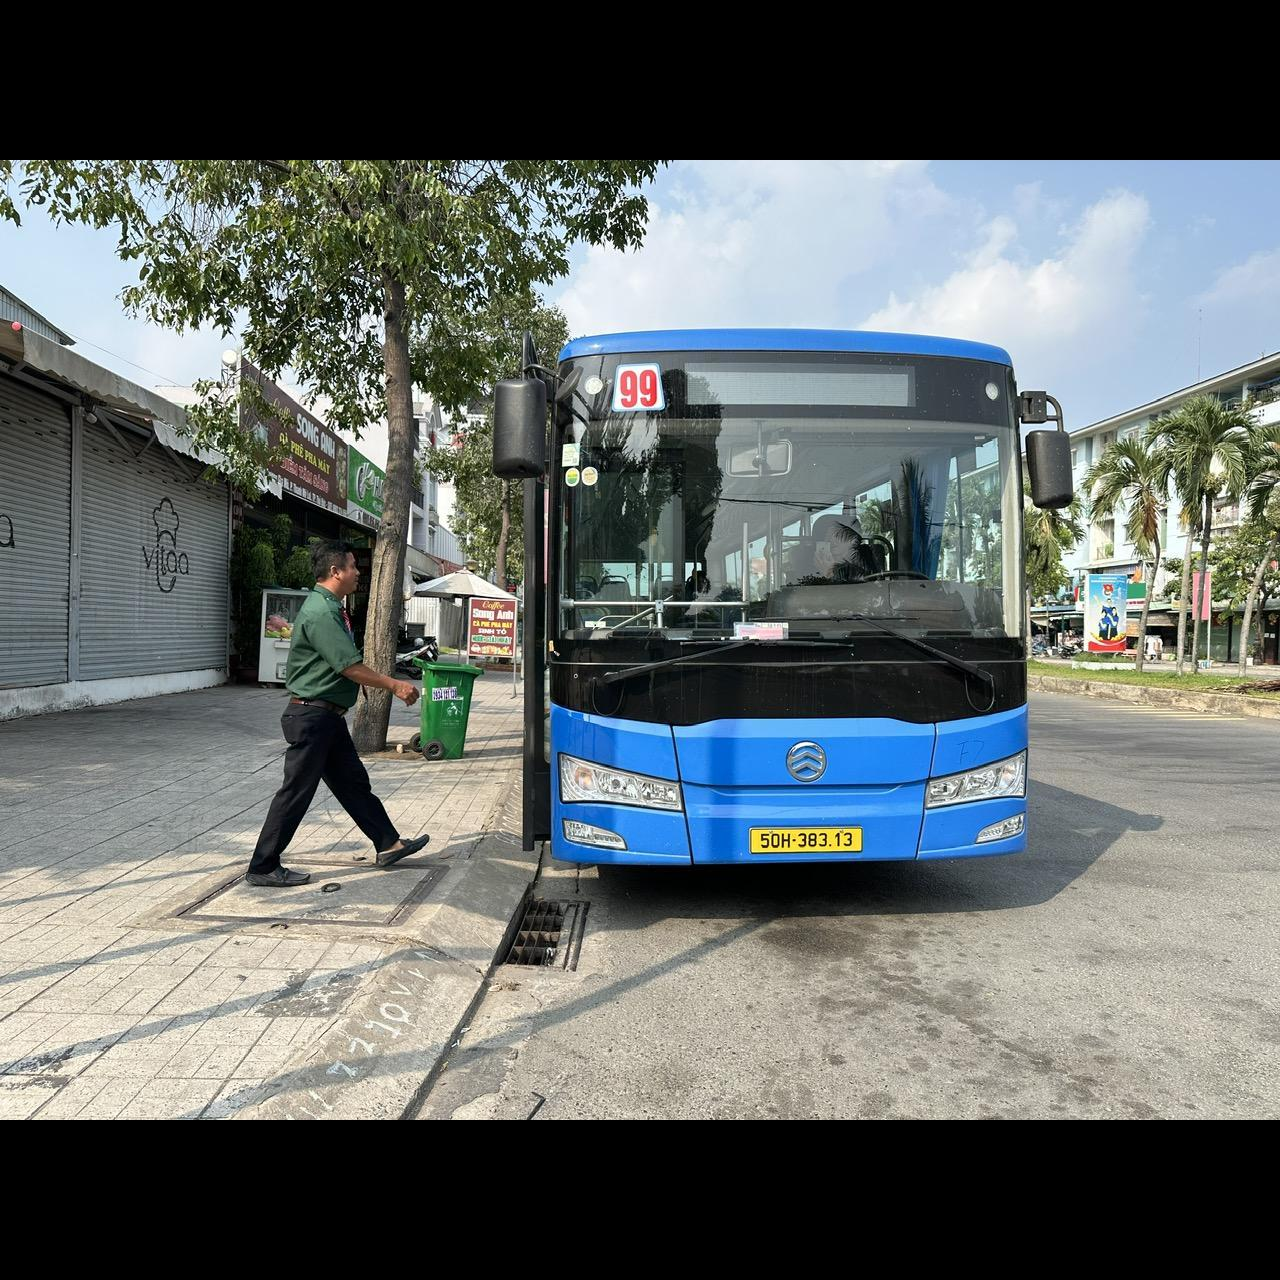bienso: (748, 826, 864, 854)
